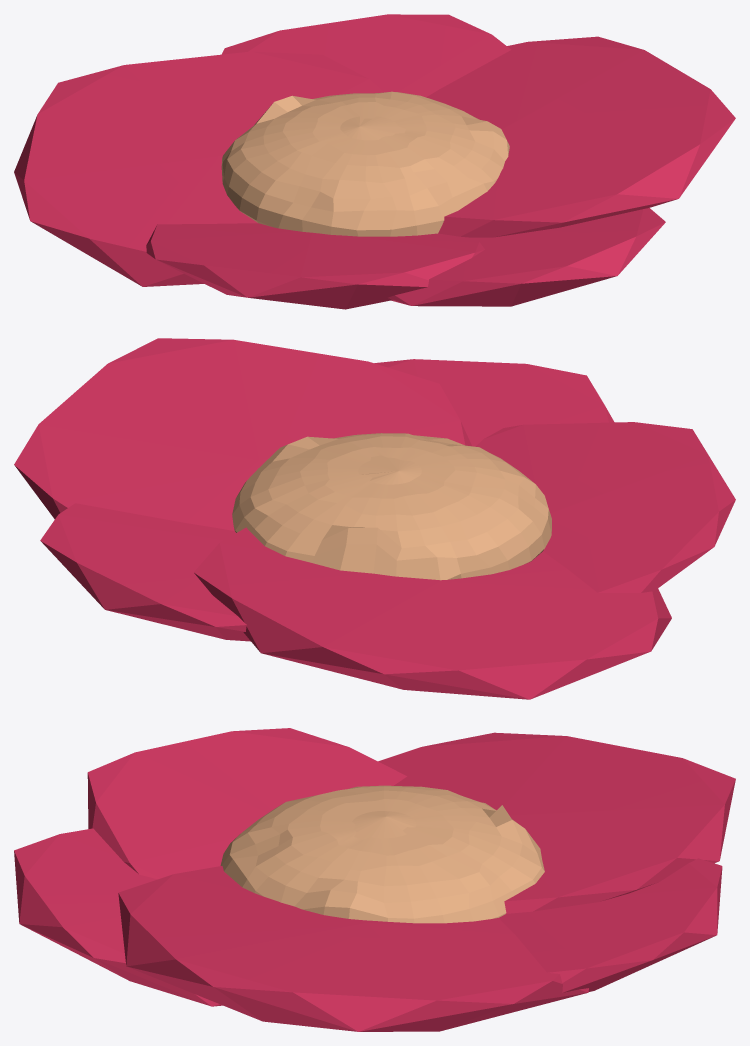
The model's file is UglyFlower.fbx.
3 renders of one model, top to bottom at view 1: azimuth 30°, elevation 25°; view 2: azimuth 150°, elevation 25°; view 3: azimuth 270°, elevation 25°, orthographic. The views are drawn at different scales.
Visible parts, largest first — view 1: Icosphere.001, Icosphere.003, Sphere, Icosphere.002, Icosphere.004, Icosphere.000; view 2: Icosphere.003, Icosphere.001, Sphere, Icosphere.002, Icosphere.000, Icosphere.004; view 3: Icosphere.003, Icosphere.001, Sphere, Icosphere.002, Icosphere.000, Icosphere.004.
Boxes of the visible parts, x1=… form: Icosphere.001: x1=14, y1=51, x2=383, y2=286; Icosphere.003: x1=426, y1=36, x2=735, y2=237; Sphere: x1=221, y1=91, x2=509, y2=236; Icosphere.002: x1=146, y1=223, x2=484, y2=309; Icosphere.004: x1=388, y1=208, x2=665, y2=306; Icosphere.000: x1=221, y1=14, x2=511, y2=97; Icosphere.003: x1=14, y1=338, x2=471, y2=530; Icosphere.001: x1=193, y1=527, x2=671, y2=699; Sphere: x1=232, y1=433, x2=551, y2=580; Icosphere.002: x1=476, y1=422, x2=735, y2=592; Icosphere.000: x1=40, y1=503, x2=250, y2=641; Icosphere.004: x1=374, y1=359, x2=614, y2=446; Icosphere.003: x1=118, y1=866, x2=589, y2=1031; Icosphere.001: x1=378, y1=732, x2=735, y2=913; Sphere: x1=220, y1=785, x2=544, y2=923; Icosphere.002: x1=87, y1=728, x2=406, y2=879; Icosphere.000: x1=499, y1=858, x2=722, y2=992; Icosphere.004: x1=14, y1=828, x2=222, y2=1006.
Size of the model in its own units: 161 by 28.81 by 149.
